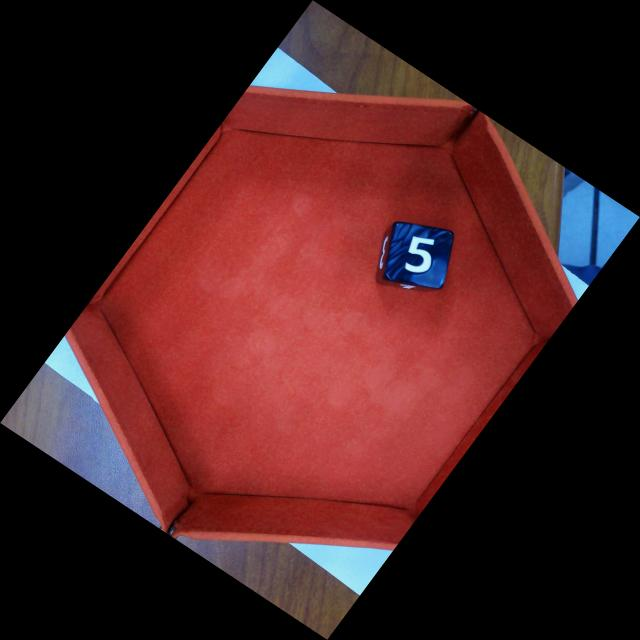dice: (381, 225, 455, 291)
